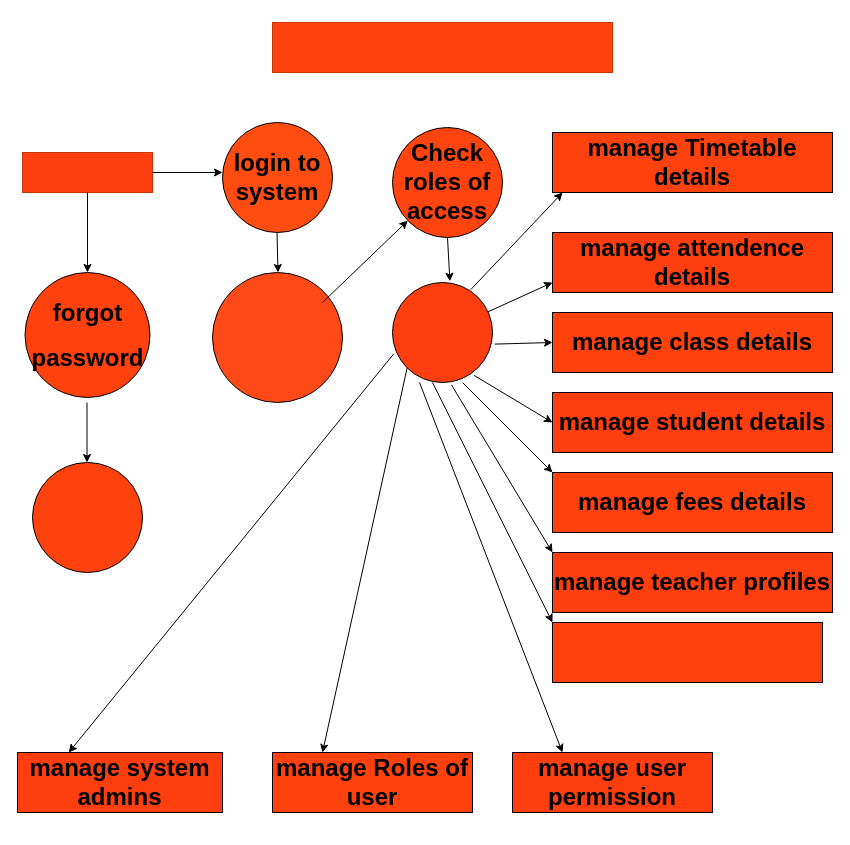
Image size: 850x845. Some labels were removed from this diagram. The centre of each missing label's shape, as x and y in pixels:
"Admin" goes at pixel 87 172.
"check credenta" goes at pixel 277 337.
"manage modules" goes at pixel 442 332.
"send email to user" goes at pixel 87 517.
"student information system" goes at pixel 442 47.
